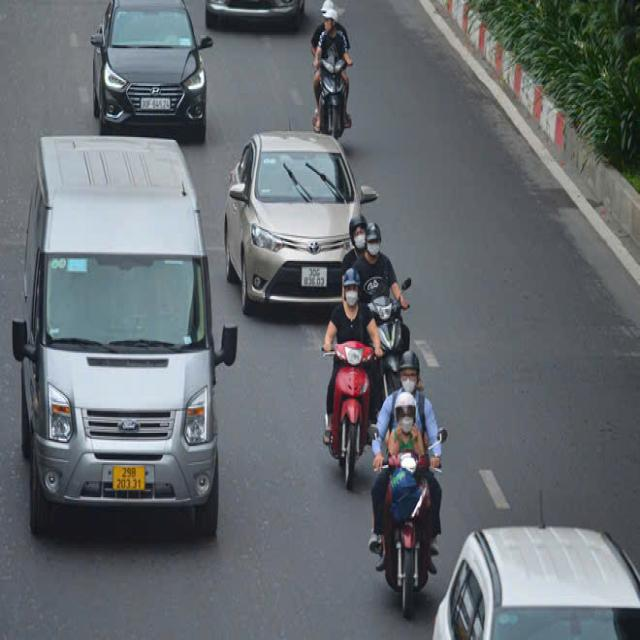car: (12, 128, 243, 557), (225, 122, 382, 322), (97, 1, 213, 143)
motobyte: (368, 349, 444, 617), (348, 213, 416, 409), (323, 264, 365, 490), (310, 0, 358, 156)
